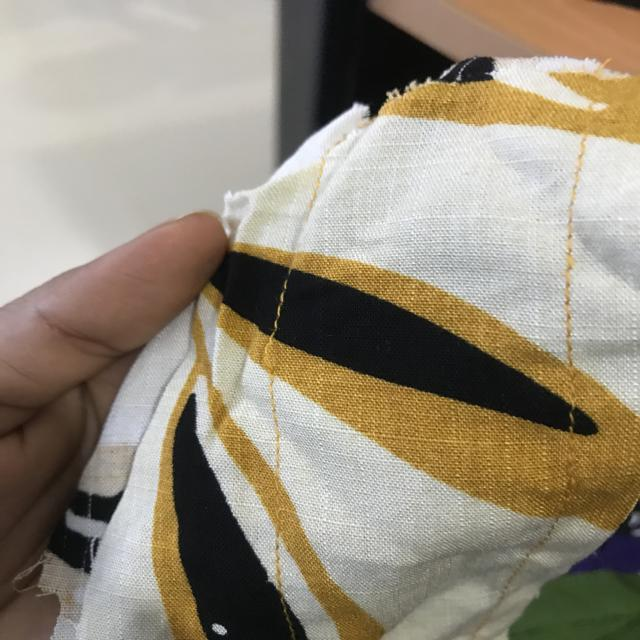skip: (240, 316, 306, 387)
